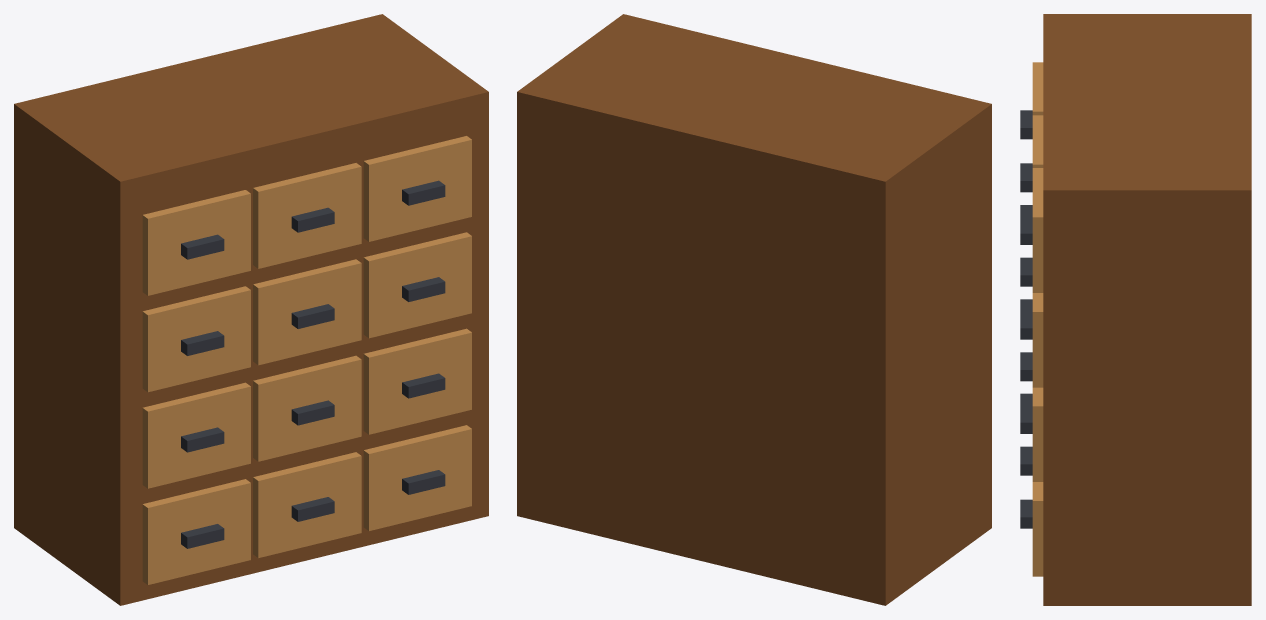
File: card_catalog.fbx
3 renders of one model, left to right at view 1: azimuth 30°, elevation 25°; view 2: azimuth 150°, elevation 25°; view 3: azimuth 270°, elevation 25°, orthographic. The views are drawn at different scales.
Visible parts, largest first — view 1: card_catalog; view 2: card_catalog; view 3: card_catalog.
Boxes of the visible parts, x1,y1,x2,y2 form: card_catalog: [14, 14, 488, 605]; card_catalog: [517, 14, 991, 605]; card_catalog: [1020, 14, 1251, 605].
Size of the model in its own units: 1 by 1.1 by 0.555.
